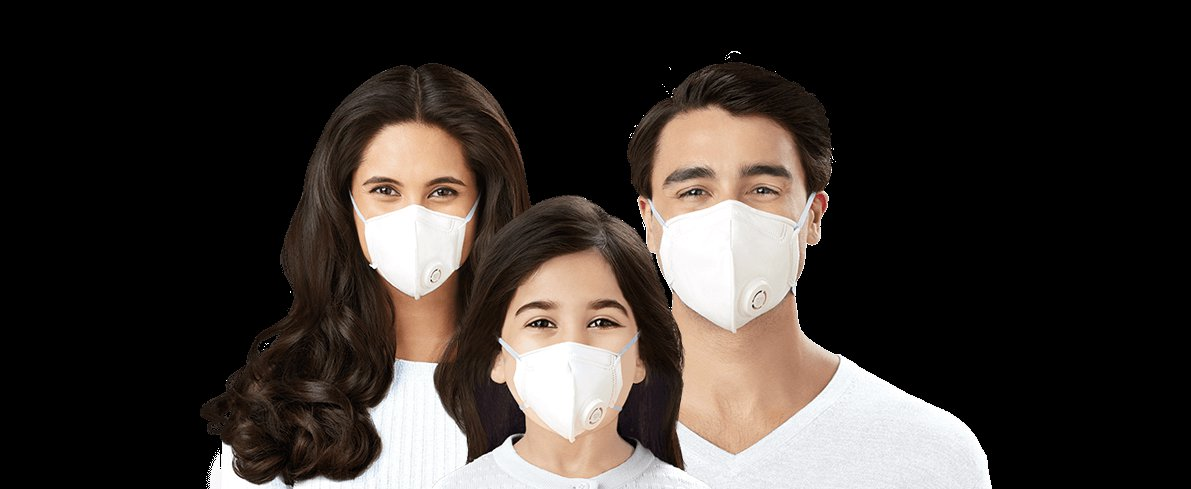mask: (631, 49, 835, 337), (481, 189, 673, 461), (304, 45, 495, 296)
